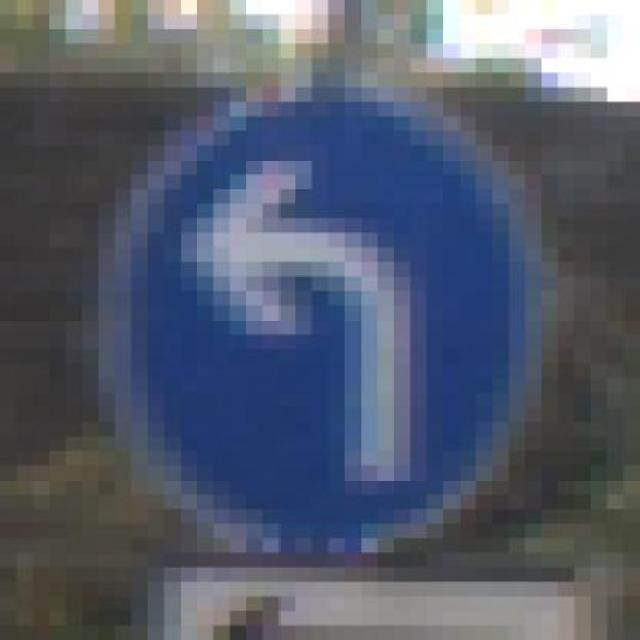Turn left ahead: (99, 59, 558, 568)
